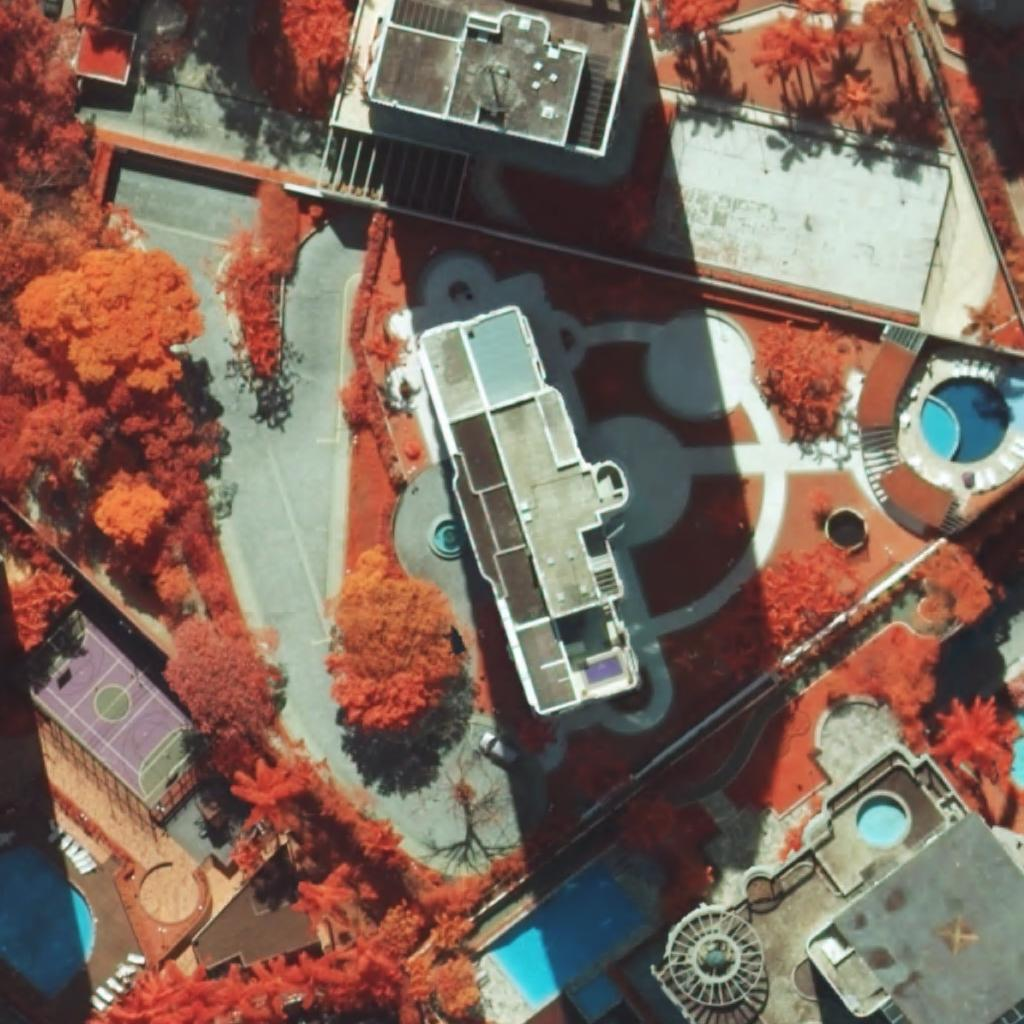pool: (486, 862, 645, 1007), (0, 845, 94, 998), (928, 376, 1009, 463), (856, 795, 906, 844), (920, 398, 956, 460), (573, 973, 620, 1019), (584, 656, 623, 684)
